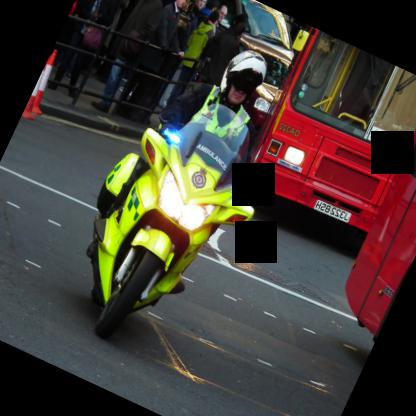handbag: (81, 5, 102, 52)
